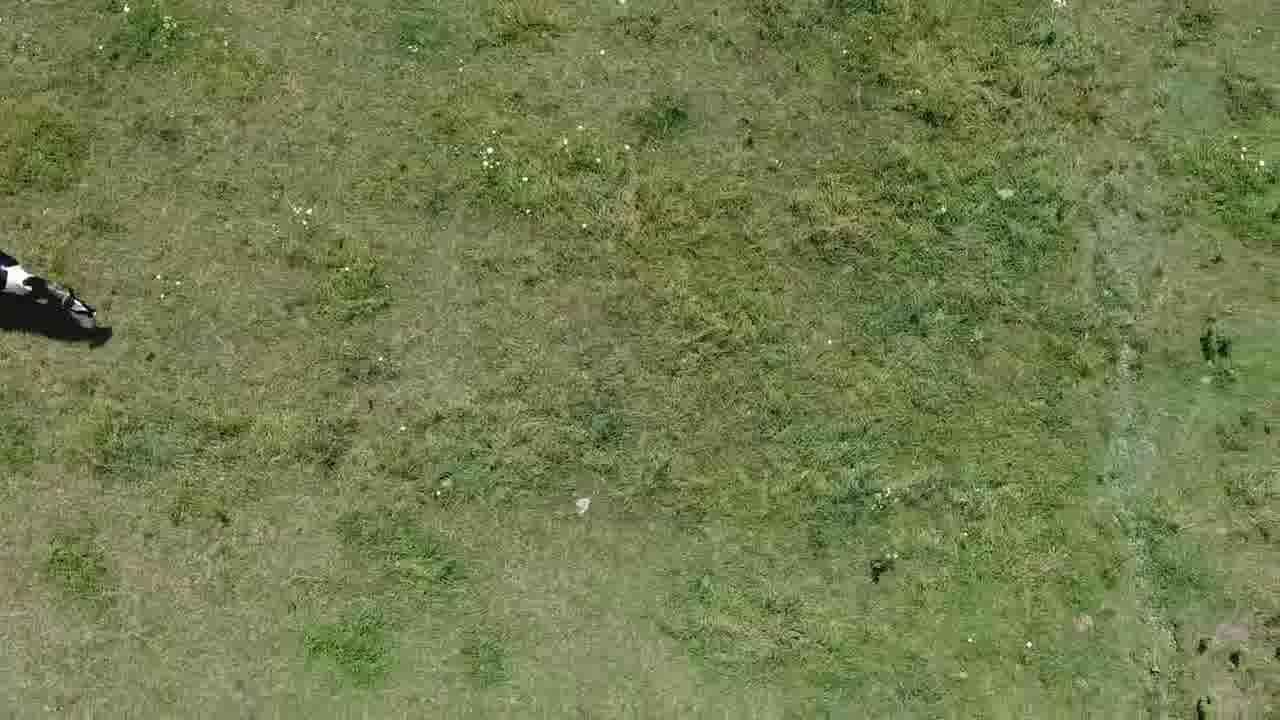cow: (0, 243, 104, 329)
